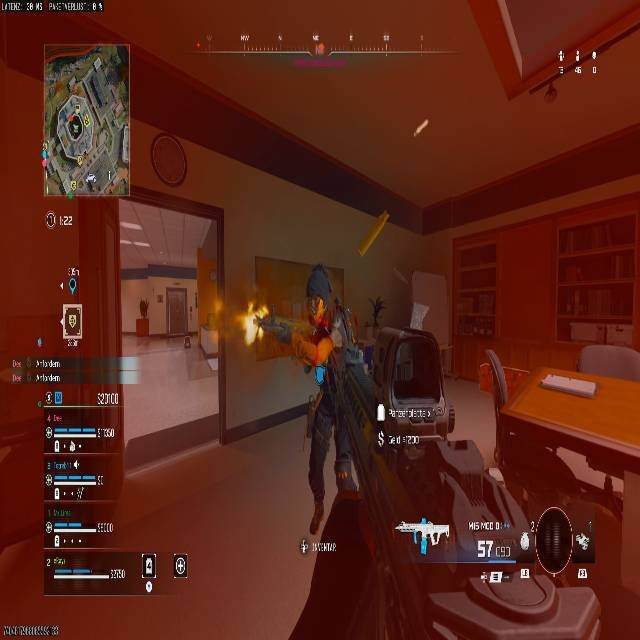head: (305, 264, 332, 321)
player: (261, 263, 365, 545), (299, 303, 376, 539), (297, 290, 362, 385)
